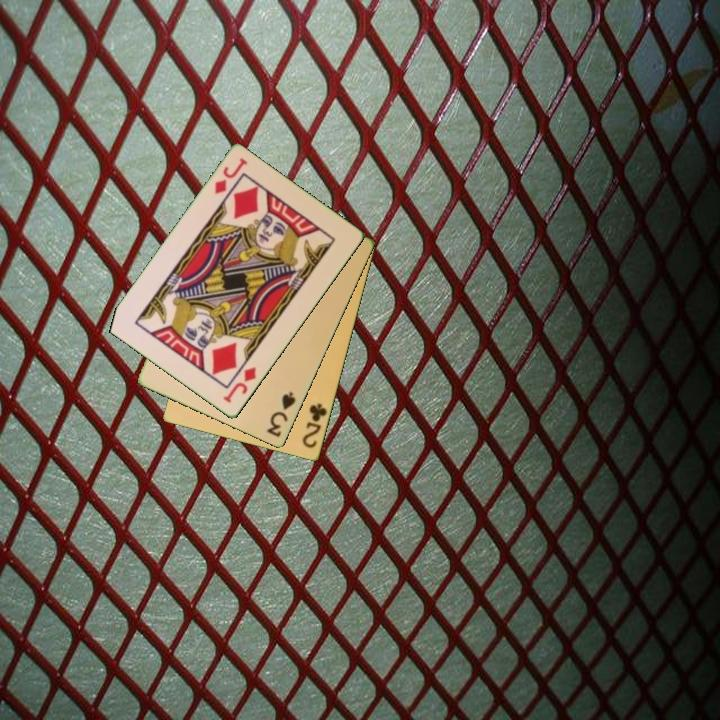2c: (299, 400, 330, 451)
3s: (263, 388, 299, 440)
Jd: (220, 363, 259, 407), (211, 154, 250, 198)
